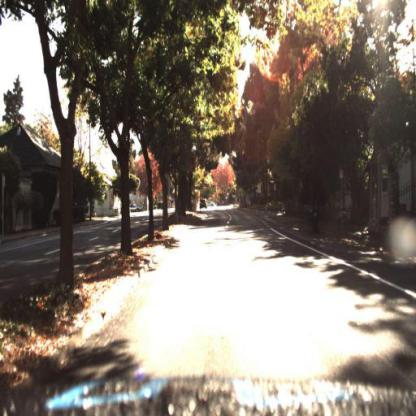car: (127, 200, 145, 216), (128, 203, 144, 217), (198, 195, 207, 211)
trafficLight-Red: (230, 186, 238, 200)
